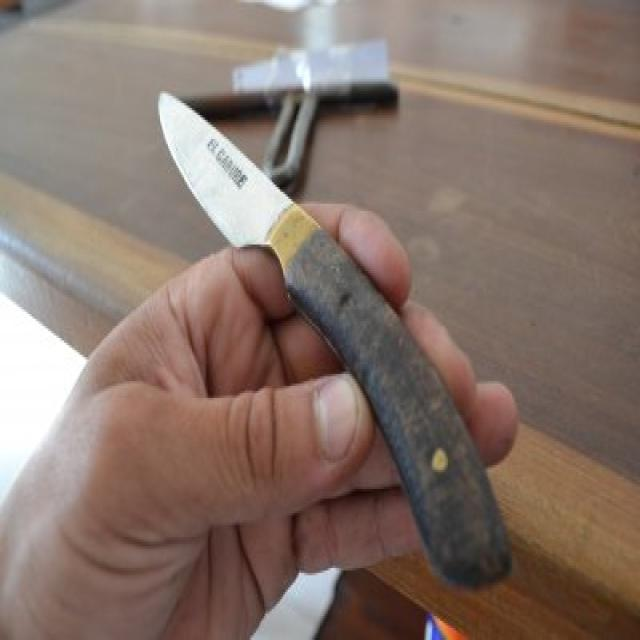knife: (156, 83, 522, 595)
